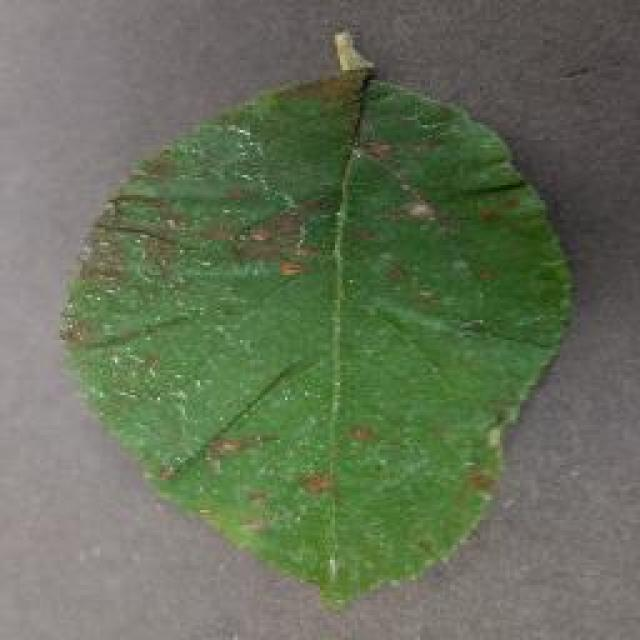apple healthy: (55, 28, 577, 610)
